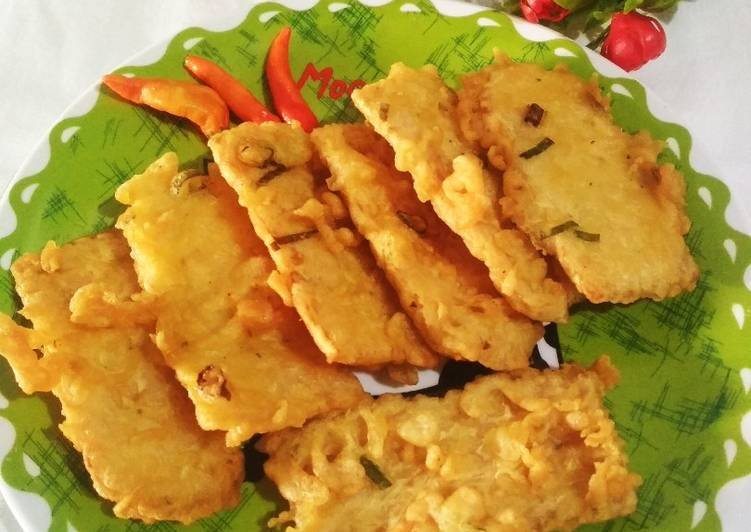Tempe: (12, 259, 237, 489), (307, 118, 504, 377), (245, 158, 450, 398), (139, 210, 352, 435), (479, 105, 679, 328), (257, 409, 659, 517), (383, 105, 559, 306)
